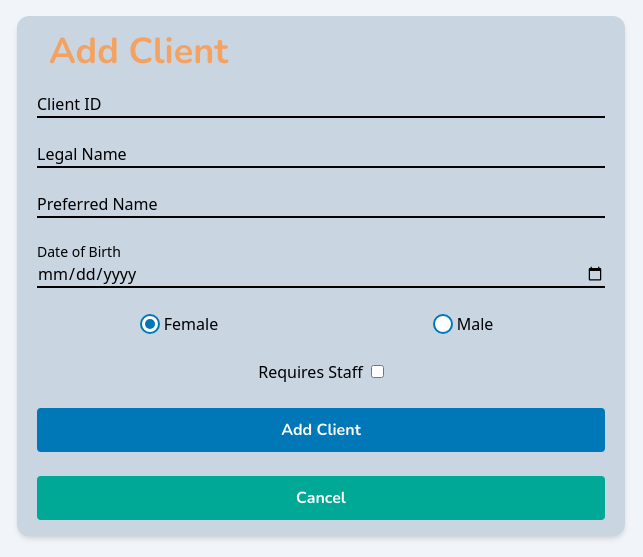
Scenario: AddClientPage tests › should display field errors from the api
In the field labelled "Client ID": (321, 105) [37,92,605,118], type "C2419"
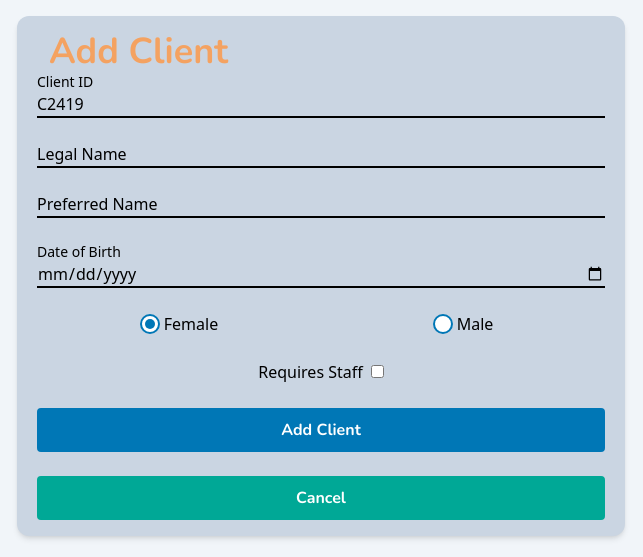
In the field labelled "Legal Name": (321, 155) [37,142,605,168], type "William Smith"
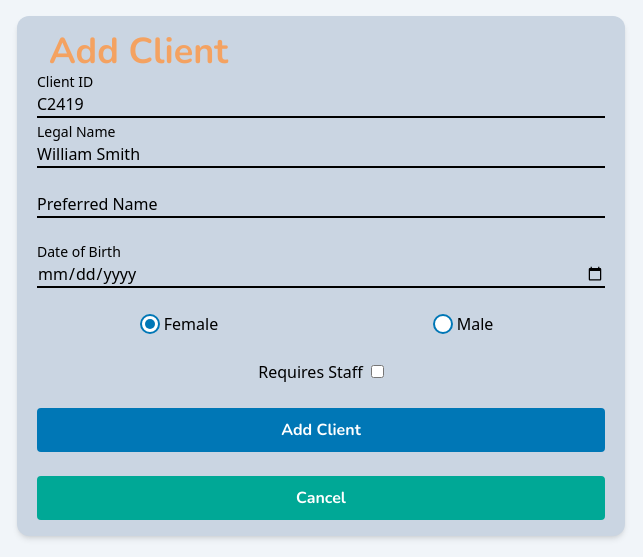
In the date field labelled "Date of Birth": (321, 275) [37,262,605,288], type "2000-07-19"
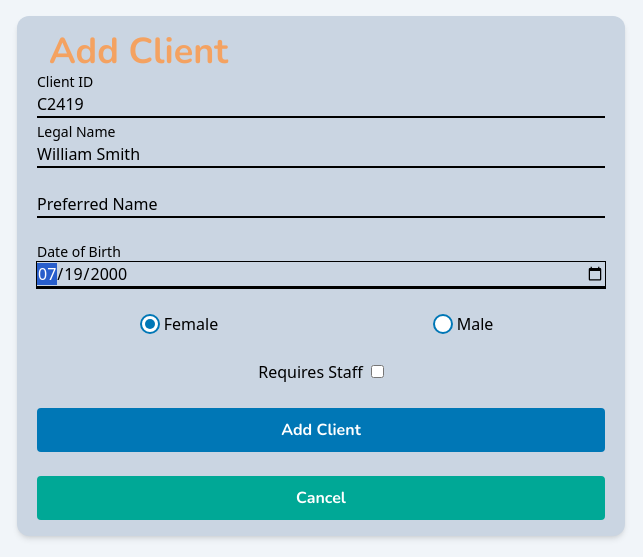
Click the button "Add Client": (321, 430) [37,408,605,452]
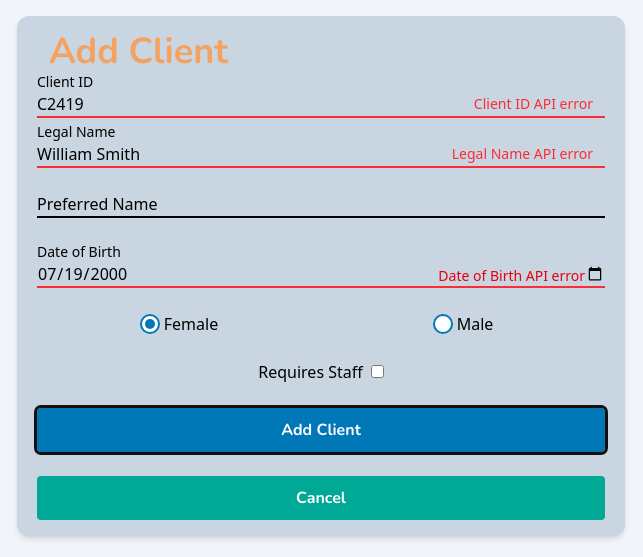
Check: the text "Client ID API error" is shown, box [474,94,593,114]
Check: the text "Legal Name API error" is shown, box [452,144,593,164]
Check: the text "Date of Birth API error" is shown, box [438,266,585,286]
